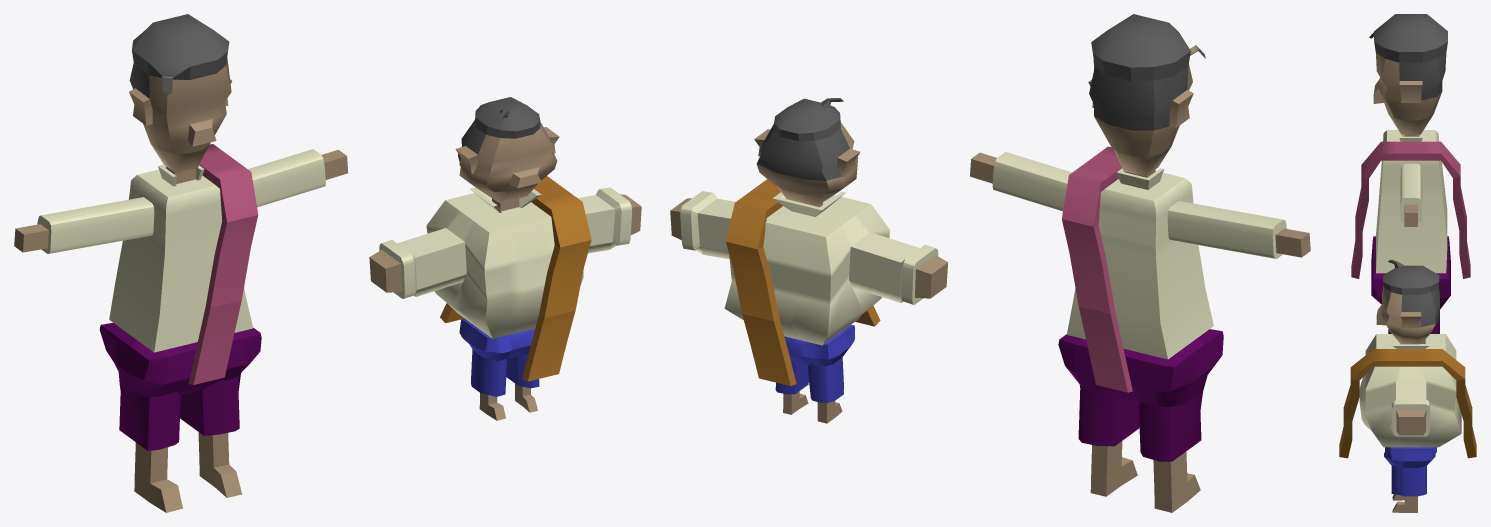
File: RoughPass1.fbx
The picture shows the model from 3 angles, left to right: view 1: azimuth 30°, elevation 25°; view 2: azimuth 150°, elevation 25°; view 3: azimuth 270°, elevation 25°; orthographic projection. The views are drawn at different scales.
Parts seen in each view (by area): view 1: OB_Torso, YB_Torso, OB_Butt_and_Legs, OB_head, OB_Sash, YB_Head, YB_Sash, YB_Butt_and_Legs; view 2: OB_Torso, YB_Torso, OB_Butt_and_Legs, OB_head, OB_Sash, YB_Head, YB_Sash, YB_Butt_and_Legs; view 3: YB_Torso, OB_Torso, OB_head, YB_Head, OB_Sash, YB_Sash, YB_Butt_and_Legs, OB_Butt_and_Legs.
Part boxes in pixels (<box>): OB_Torso: <box>14,149,348,352</box>; YB_Torso: <box>369,187,641,338</box>; OB_Butt_and_Legs: <box>99,323,261,512</box>; OB_head: <box>129,14,231,173</box>; OB_Sash: <box>188,144,258,384</box>; YB_Head: <box>455,97,559,202</box>; YB_Sash: <box>440,176,591,381</box>; YB_Butt_and_Legs: <box>459,318,539,420</box>; OB_Torso: <box>970,152,1310,359</box>; YB_Torso: <box>670,191,948,345</box>; OB_Butt_and_Legs: <box>1058,329,1223,512</box>; OB_head: <box>1088,14,1205,176</box>; OB_Sash: <box>1062,146,1132,392</box>; YB_Head: <box>754,98,860,206</box>; YB_Sash: <box>725,179,880,385</box>; YB_Butt_and_Legs: <box>775,324,854,423</box>; YB_Torso: <box>1359,334,1461,447</box>; OB_Torso: <box>1376,130,1447,273</box>; OB_head: <box>1369,14,1447,134</box>; YB_Head: <box>1376,259,1439,344</box>; OB_Sash: <box>1351,141,1470,278</box>; YB_Sash: <box>1339,349,1476,458</box>; YB_Butt_and_Legs: <box>1384,447,1436,512</box>; OB_Butt_and_Legs: <box>1371,236,1450,333</box>.
Bounding box in the file's own units: 9.52 × 6.84 × 2.35.
